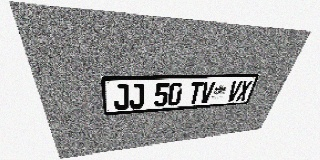0: (167, 82, 183, 106)
5: (154, 83, 170, 107)
J: (113, 84, 129, 110), (129, 83, 144, 109)
T: (187, 82, 204, 105)
V: (199, 81, 216, 104), (226, 80, 243, 102)
X: (236, 80, 253, 101)
